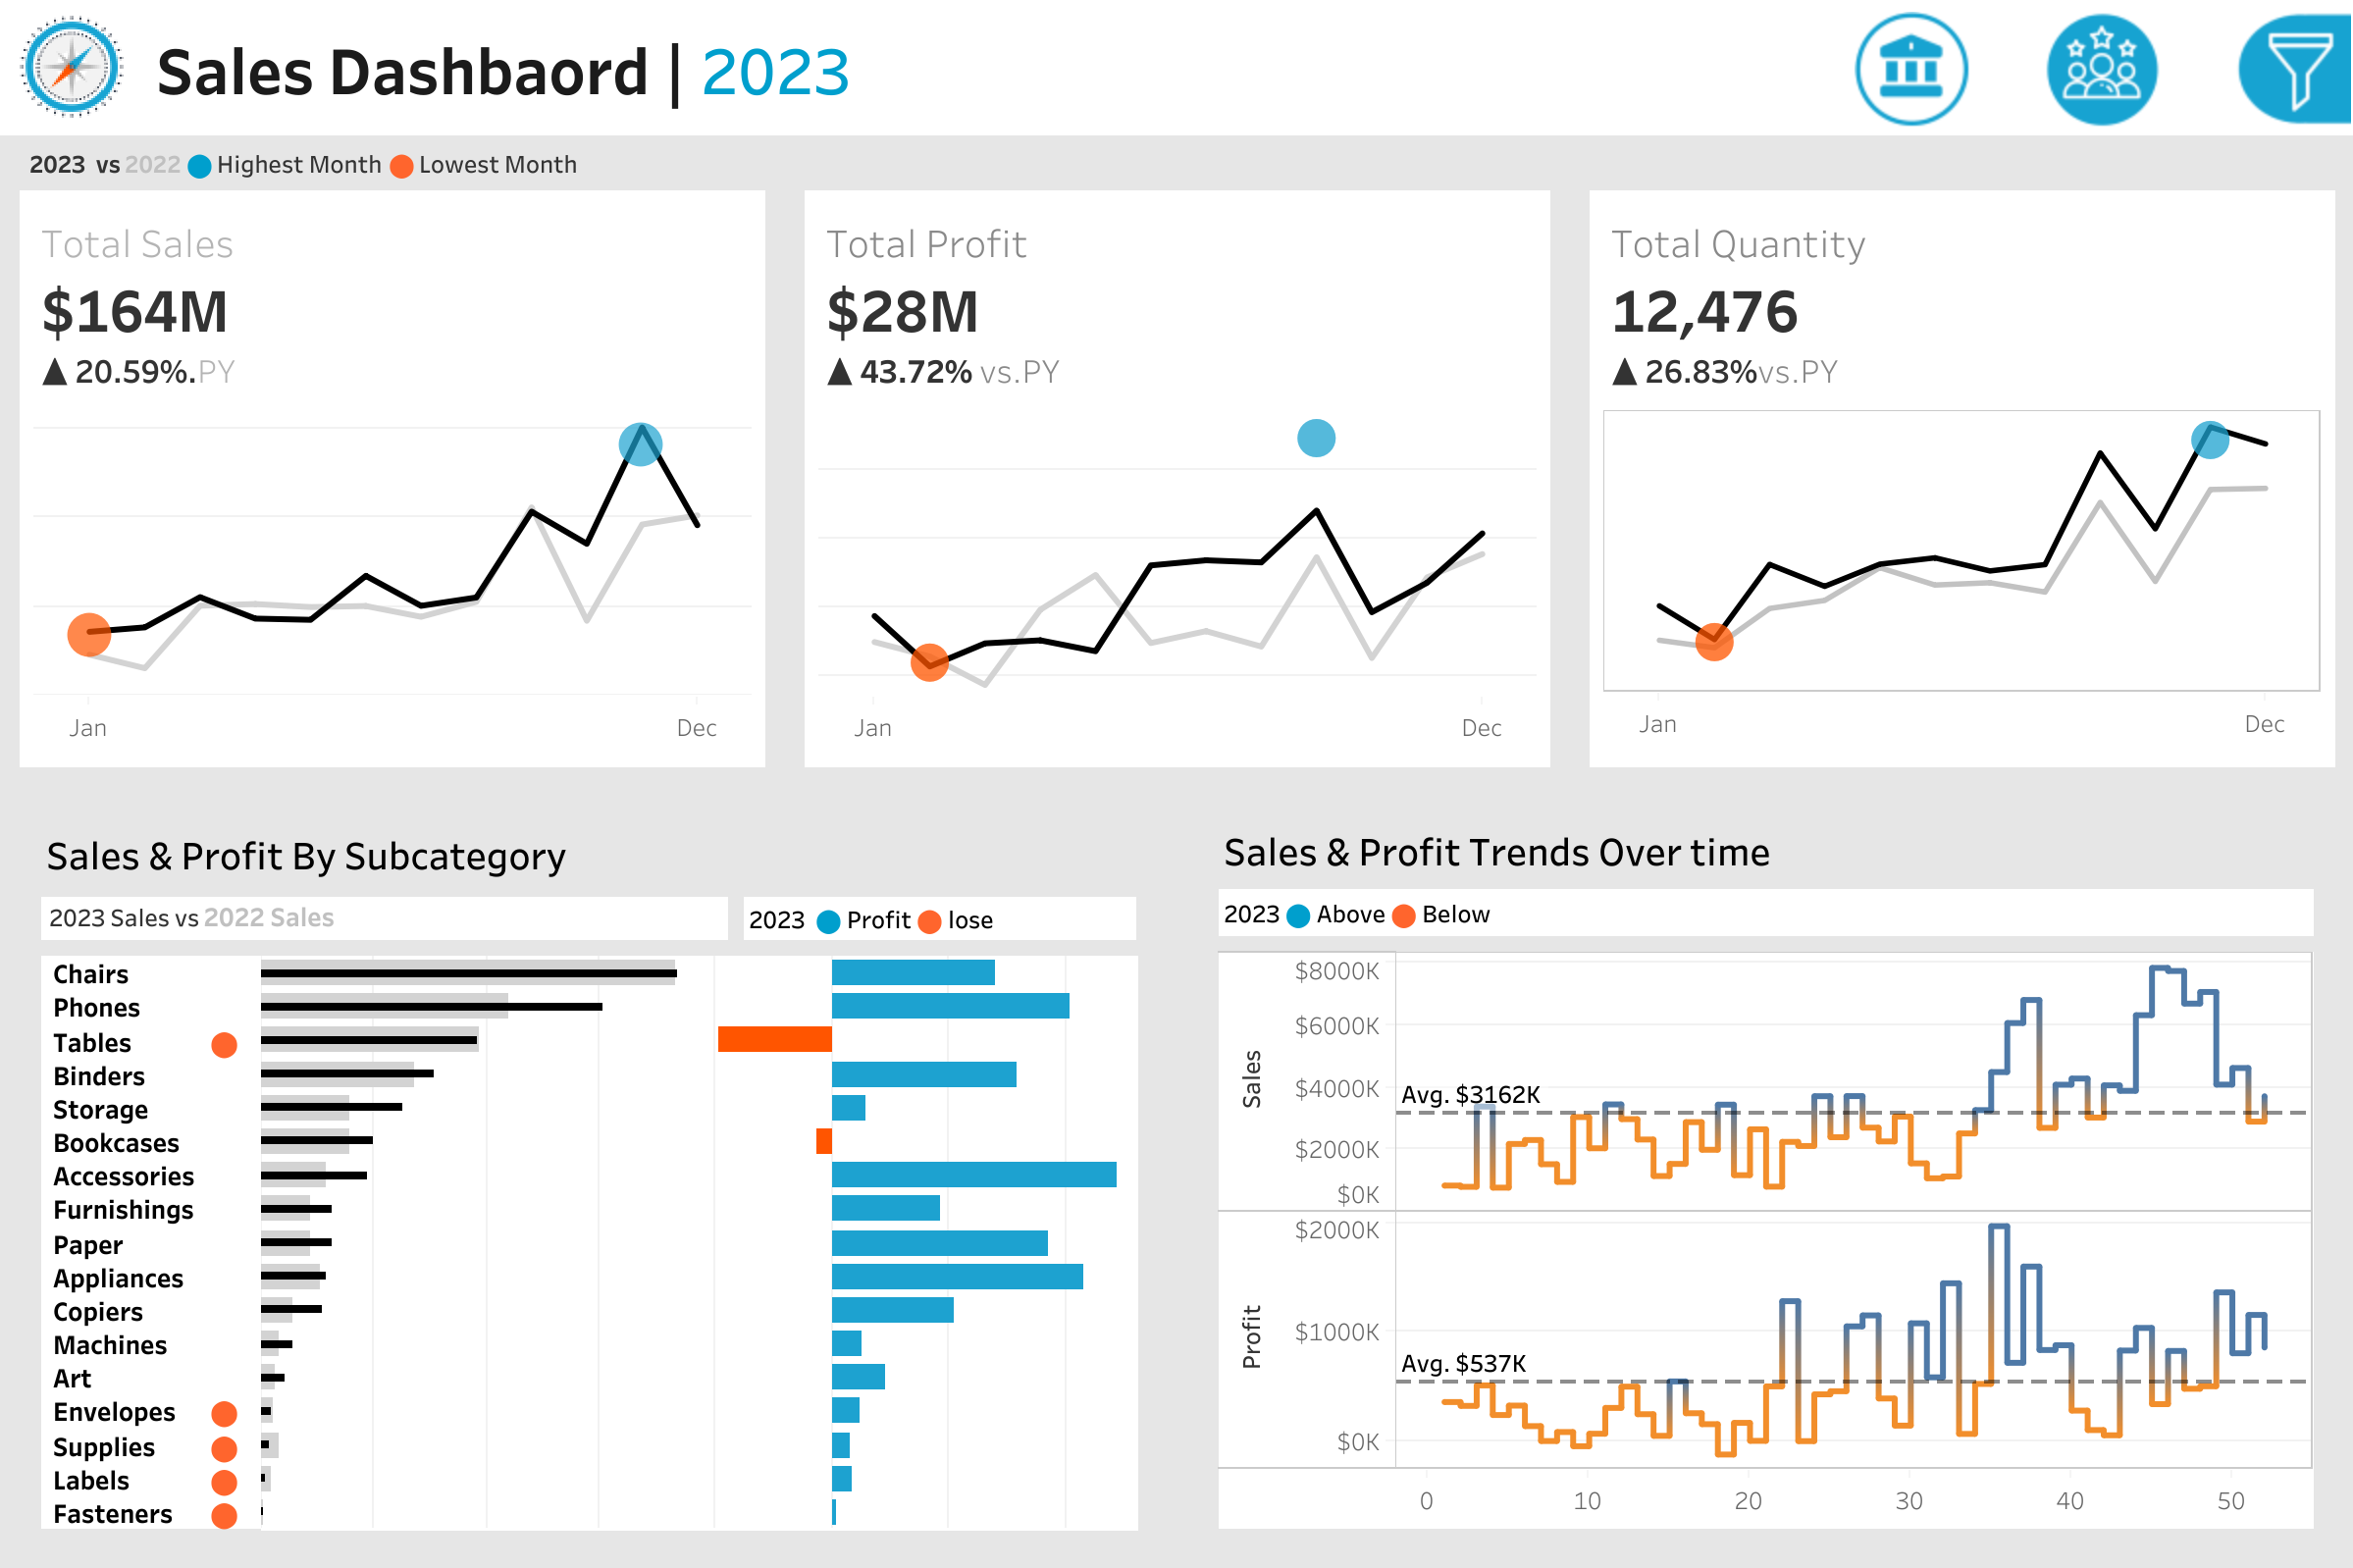

The dashboard page shown, as its layout file describes it:
{"tool":"tableau","page":{"name":"Sales Dashboard","canvas":[1200,800],"ordinal":1},"visuals":[{"type":"image","param":"Image/Icon - Logo.png","box":[0,0,73,69]},{"type":"text","box":[73,0,841,69]},{"type":"text","box":[931,1,258,169]},{"type":"dashboard-object","box":[926,2,97,67]},{"type":"dashboard-object","box":[1023,2,97,67]},{"type":"worksheet","title":"Legend KPI","mark":"Automatic","box":[0,69,1200,28]},{"type":"worksheet","title":"KPI sales ","mark":"Automatic","rows":["Calculation_0313036401418251"],"cols":["Order Date"],"box":[0,97,400,304]},{"type":"worksheet","title":"KPI Profit","mark":"Line","rows":["Calculation_0313037796667422"],"cols":["Order Date"],"box":[400,97,400,304]},{"type":"worksheet","title":"KPI Quantity","mark":"Line","rows":["Calculation_0313037838630948"],"cols":["Order Date"],"box":[800,97,400,304]},{"type":"parameter","param":"[Parameters].[Parameter 0313036124626950]","box":[931,170,258,69]},{"type":"text","box":[931,239,258,40]},{"type":"filter","title":"KPI sales ","param":"[federated.0c7x7px0ymvu0817mrlwu0zaqenl].[none:Category:nk]","box":[931,279,258,52]},{"type":"filter","title":"KPI sales ","param":"[federated.0c7x7px0ymvu0817mrlwu0zaqenl].[none:Sub-Category:nk]","box":[931,331,258,52]},{"type":"blank","box":[931,383,258,75]},{"type":"text","box":[17,418,566,34]},{"type":"text","box":[617,418,566,31]},{"type":"text","box":[617,449,566,32]},{"type":"worksheet","title":"Legend of subcato","mark":"Automatic","box":[17,452,358,30]},{"type":"text","box":[375,452,208,30]},{"type":"text","box":[931,458,258,29]},{"type":"worksheet","title":"WEEKLY Trends","mark":"Automatic","rows":["Calculation_0313036036157440","vtsum"],"cols":["Order Date"],"box":[617,481,566,302]},{"type":"worksheet","title":"Subcategory Comparesion","mark":"Bar","rows":["Sub-Category","Calculation_0313037859176488"],"cols":["CY sales (copy)_0313036122927108","Calculation_0313036036157440","vtsum"],"box":[17,482,566,301]},{"type":"filter","title":"KPI sales ","param":"[federated.0c7x7px0ymvu0817mrlwu0zaqenl].[none:Region:nk]","box":[931,487,258,52]},{"type":"filter","title":"KPI sales ","param":"[federated.0c7x7px0ymvu0817mrlwu0zaqenl].[none:State:nk]","box":[931,539,258,52]},{"type":"filter","title":"KPI sales ","param":"[federated.0c7x7px0ymvu0817mrlwu0zaqenl].[none:City:nk]","box":[931,591,258,52]}]}

Visuals, with their boxes in screenshot pixels (x1, y1, x2, y2), scaled from the page's 1200x800 canvas onto the 2353x1568 screenshot:
image: (0, 0, 143, 135)
text: (143, 0, 1792, 135)
text: (1825, 2, 2331, 334)
dashboard-object: (1815, 4, 2006, 135)
dashboard-object: (2006, 4, 2196, 135)
"Legend KPI" worksheet: (0, 135, 2352, 190)
"KPI sales " worksheet: (0, 190, 784, 786)
"KPI Profit" worksheet (Line marks): (784, 190, 1569, 786)
"KPI Quantity" worksheet (Line marks): (1569, 190, 2352, 786)
parameter: (1825, 334, 2331, 468)
text: (1825, 468, 2331, 547)
"KPI sales " filter: (1825, 547, 2331, 649)
"KPI sales " filter: (1825, 649, 2331, 751)
blank: (1825, 751, 2331, 898)
text: (33, 819, 1143, 886)
text: (1210, 819, 2320, 880)
text: (1210, 880, 2320, 943)
"Legend of subcato" worksheet: (33, 886, 735, 945)
text: (735, 886, 1143, 945)
text: (1825, 898, 2331, 955)
"WEEKLY Trends" worksheet: (1210, 943, 2320, 1535)
"Subcategory Comparesion" worksheet (Bar marks): (33, 945, 1143, 1535)
"KPI sales " filter: (1825, 955, 2331, 1057)
"KPI sales " filter: (1825, 1057, 2331, 1159)
"KPI sales " filter: (1825, 1159, 2331, 1260)
